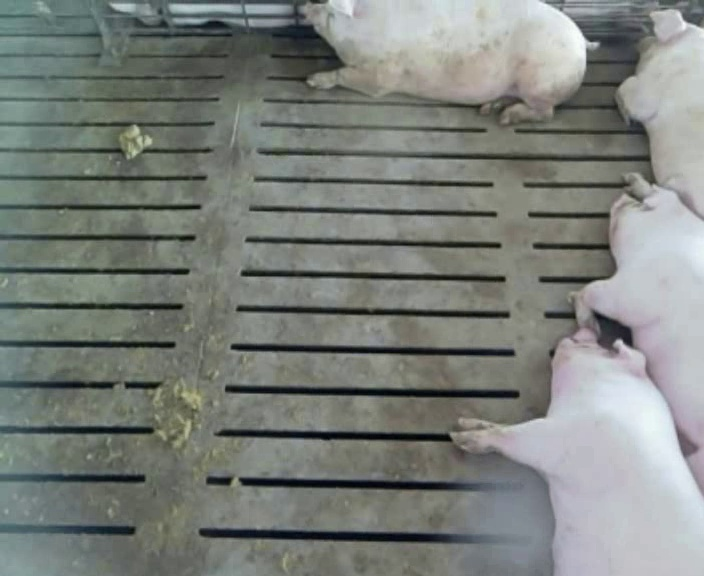pig: (451, 328, 703, 573), (566, 173, 703, 491), (306, 2, 599, 124), (616, 10, 703, 217)
